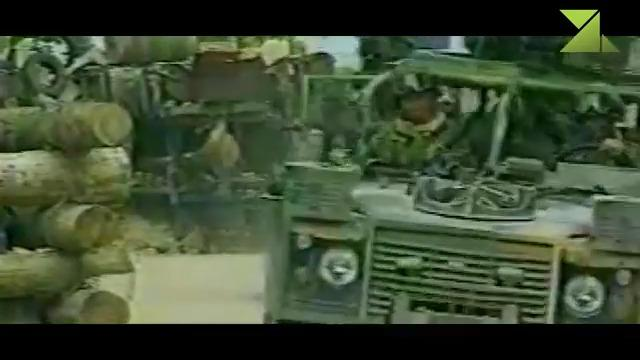MIL_HMMWV: (259, 49, 640, 325), (357, 69, 477, 167)
